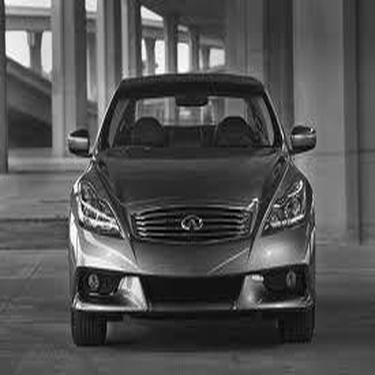car: (32, 58, 326, 351)
